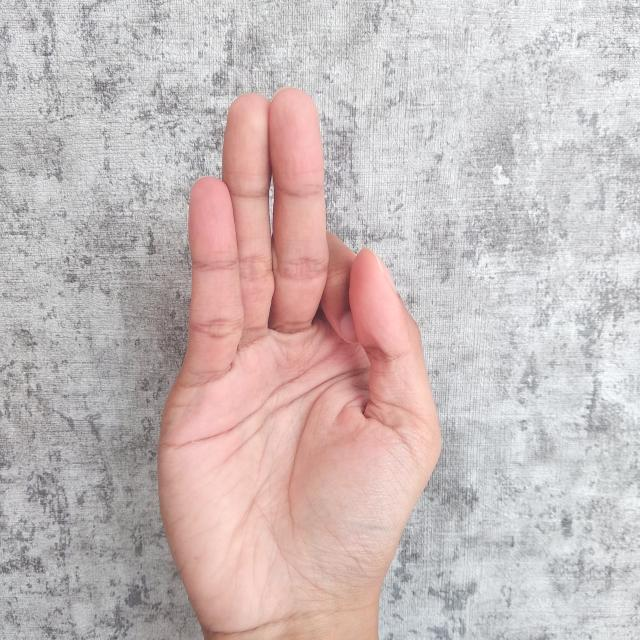F: (159, 85, 446, 640)
